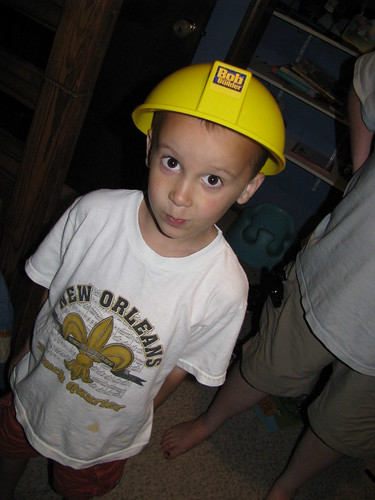person hardhat: (17, 61, 254, 500)
